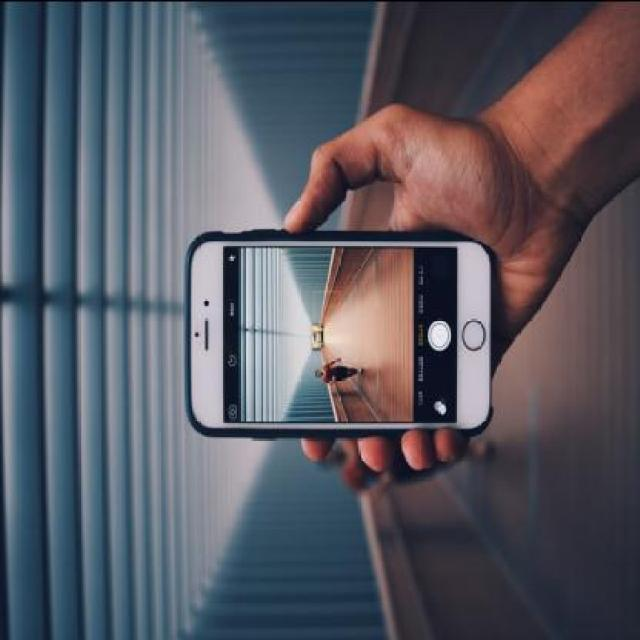phone: (183, 230, 500, 433)
